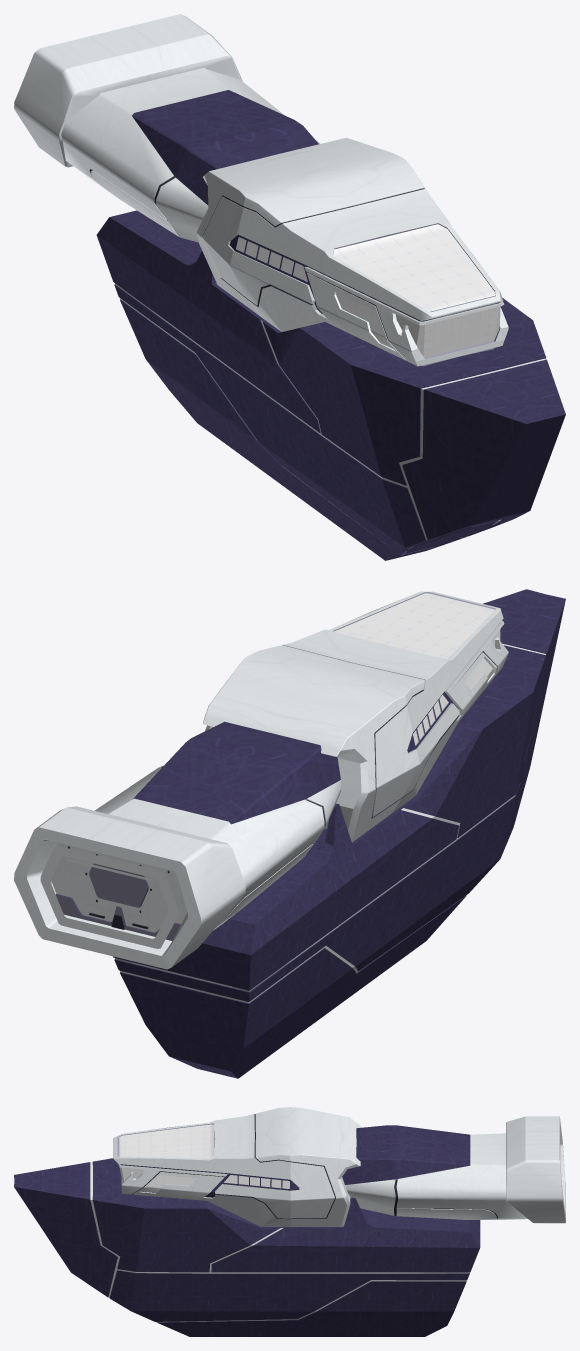
File: Utnapishitim.fbx
3 views of the same model, one above another, from view 1: azimuth 30°, elevation 25°; view 2: azimuth 150°, elevation 25°; view 3: azimuth 270°, elevation 25° (orthographic). The views are drawn at different scales.
Visible parts, largest first — view 1: hull, outside, cabin, tail, glass1, inside; view 2: hull, outside, tail, cabin, glass1, doorL, doorR; view 3: hull, outside, cabin, tail, glass1.
Boxes of the visible parts, x1,y1,x2,y2 form: hull: (96,210,565,560); outside: (197,137,508,366); cabin: (61,67,320,242); tail: (14,14,242,167); glass1: (237,224,500,357); inside: (236,223,500,366); hull: (113,589,565,1078); outside: (203,591,508,842); tail: (14,806,245,969); cabin: (95,721,340,930); glass1: (334,593,500,745); doorL: (177,939,232,996); doorR: (131,961,186,988); hull: (14,1158,480,1336); outside: (113,1107,360,1226); cabin: (342,1125,527,1219); tail: (506,1116,565,1223); glass1: (119,1124,289,1192).
Size of the model in its own units: 15.01 by 24.11 by 60.45.
